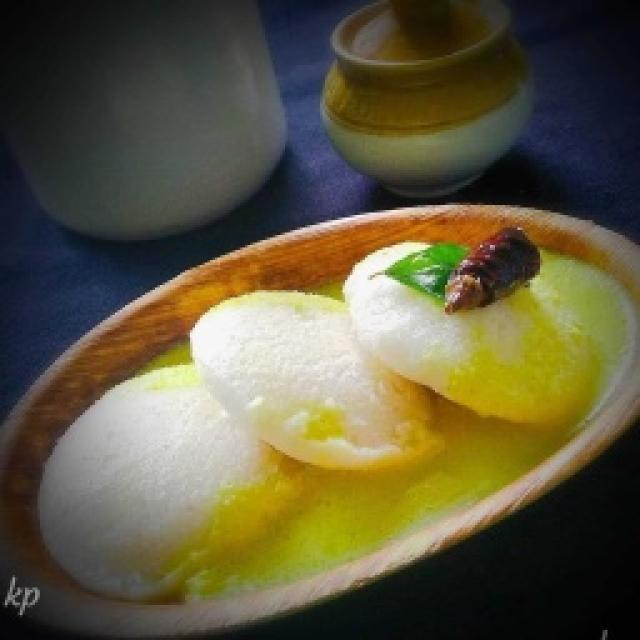idli: (37, 315, 587, 518)
